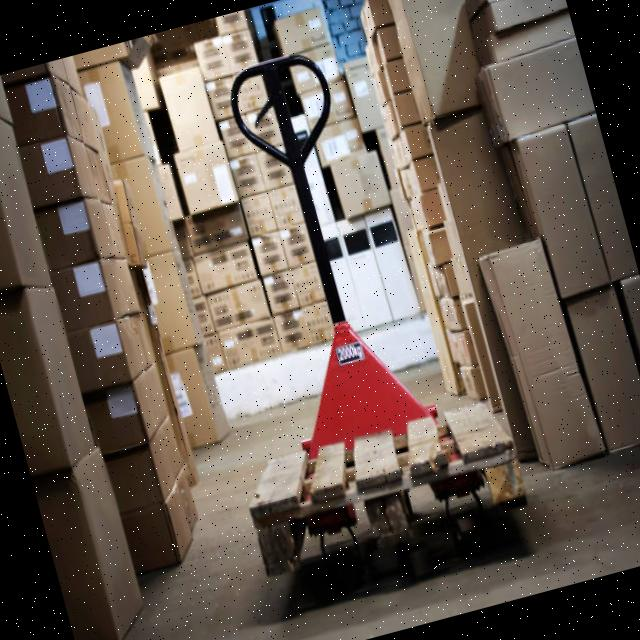Wooden-Pallets: (248, 404, 524, 576)
